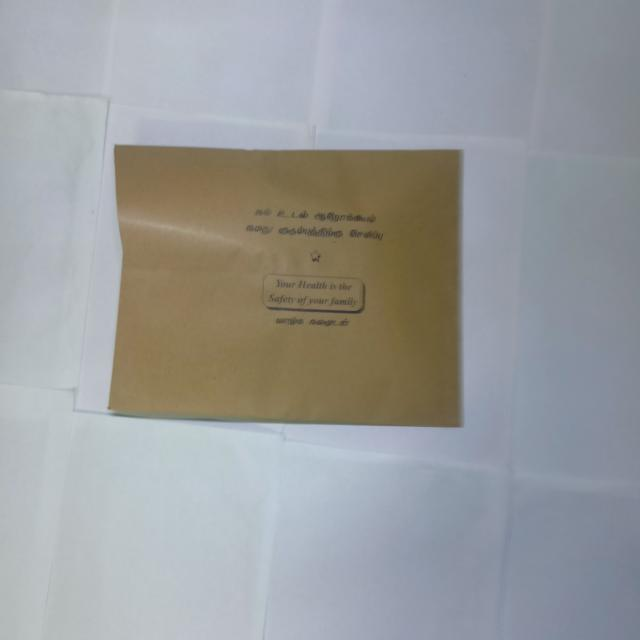box: (113, 146, 463, 425)
